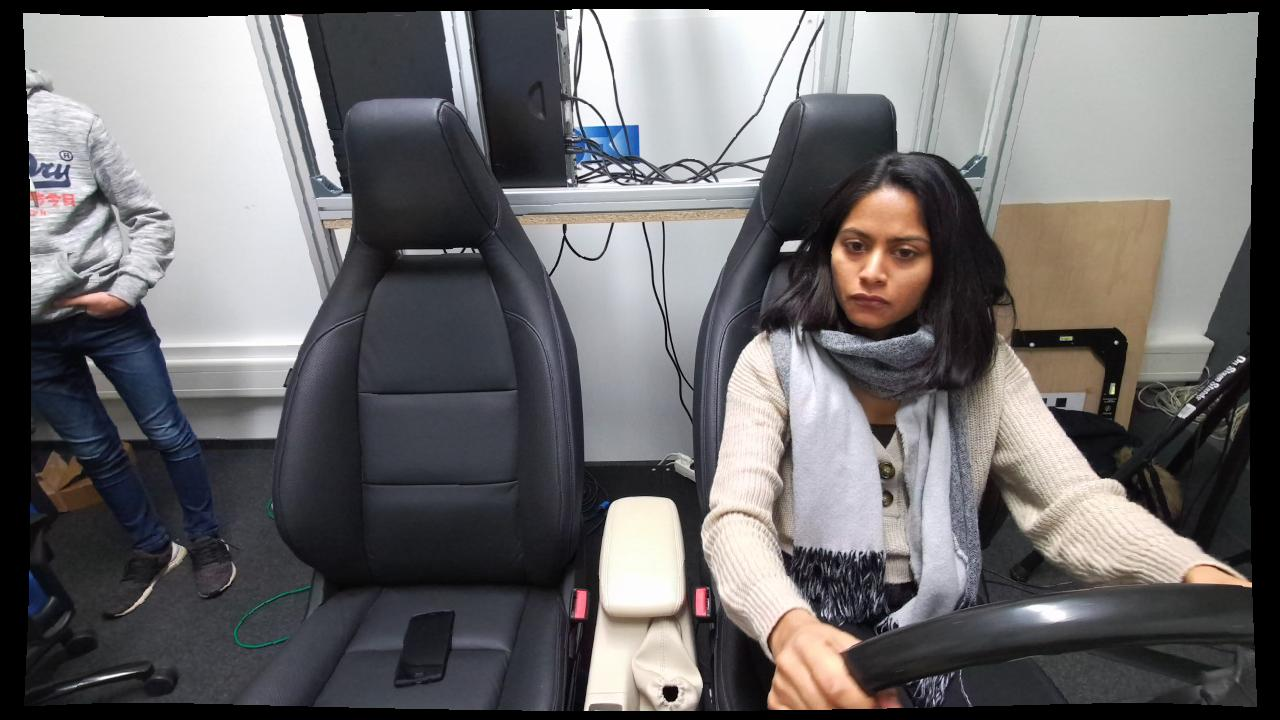Distracted: (704, 146, 1029, 718)
